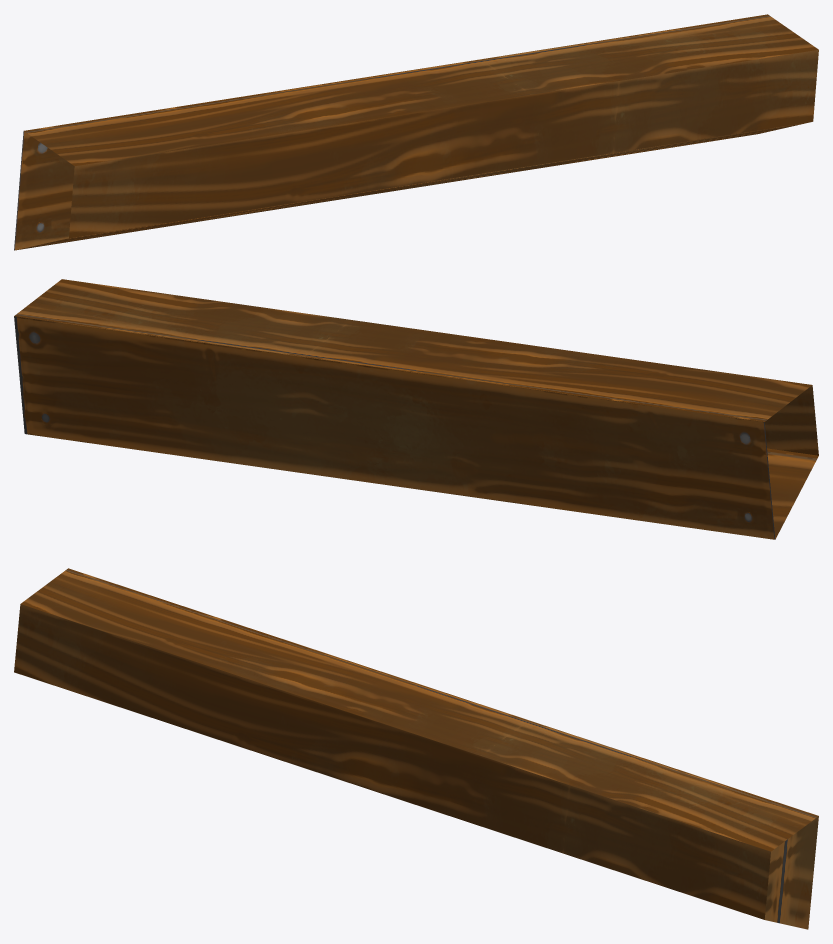
The picture shows the model from 3 angles, top to bottom: view 1: azimuth 30°, elevation 25°; view 2: azimuth 150°, elevation 25°; view 3: azimuth 330°, elevation 25°; orthographic projection.
Visible parts, largest first — view 1: Cube.1557; view 2: Cube.1557; view 3: Cube.1557.
Part boxes in pixels (x1,y1,x2,y2): Cube.1557: (14, 14, 818, 250); Cube.1557: (14, 279, 818, 539); Cube.1557: (14, 568, 818, 929).
Size of the model in its own units: 309 by 73.3 by 39.83.
Materials: 1 (1 with a texture image).
